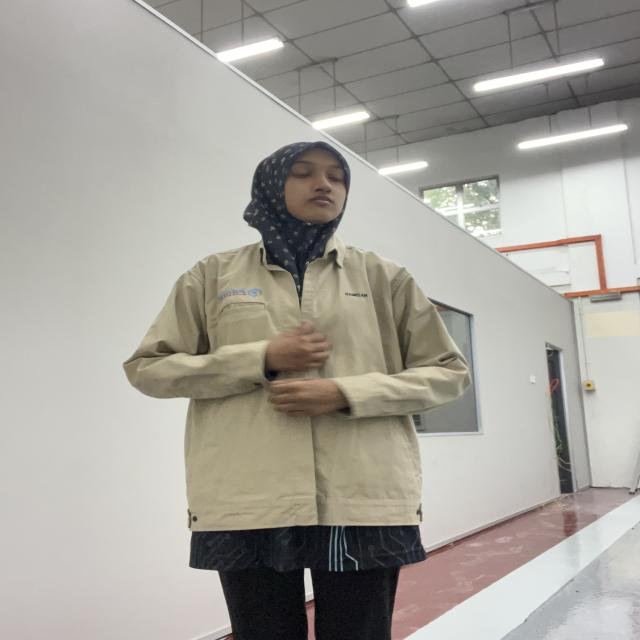person_with_labcoat: (123, 142, 469, 640)
